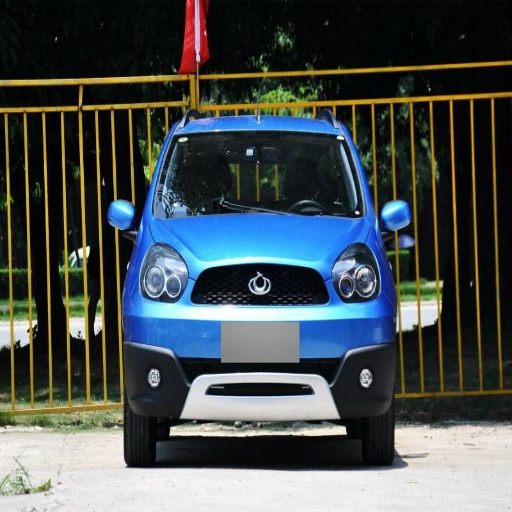front_bumper: (123, 261, 395, 420)
front_right_light: (143, 246, 187, 301)
hood: (151, 211, 368, 272)
